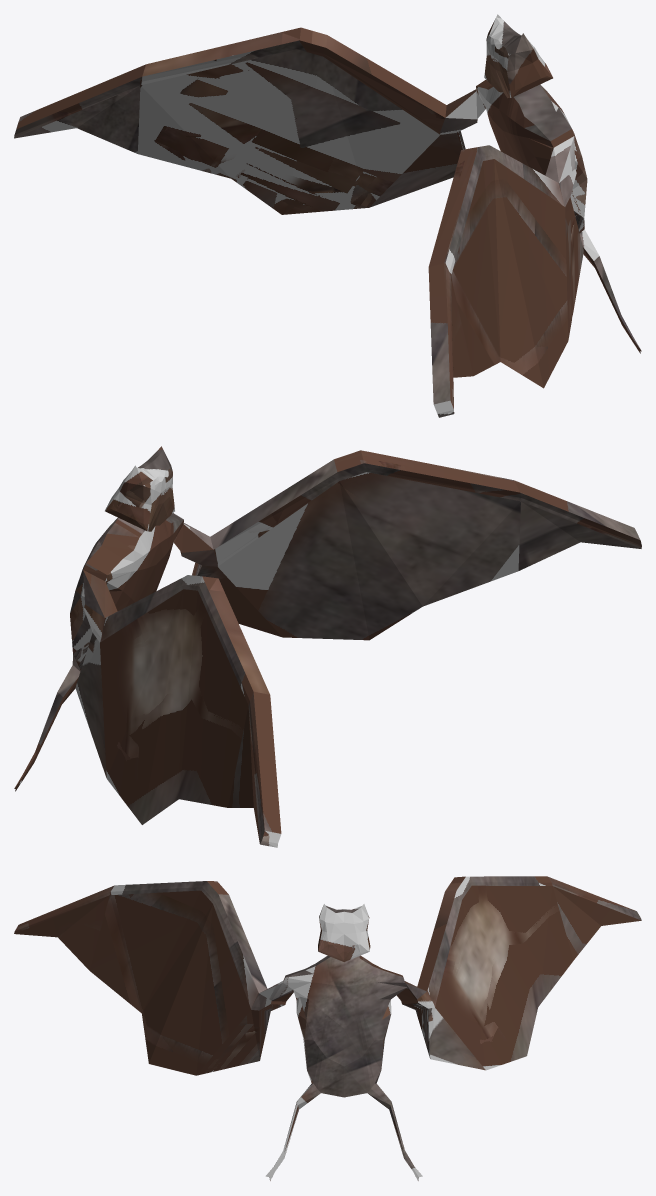
Rendered from Enemigo19.obj.
3 renders of one model, top to bottom at view 1: azimuth 30°, elevation 25°; view 2: azimuth 150°, elevation 25°; view 3: azimuth 270°, elevation 25°, orthographic. The views are drawn at different scales.
Parts seen in each view (by area): view 1: Plano; view 2: Plano; view 3: Plano.
Boxes of the visible parts, x1,y1,x2,y2 form: Plano: (14,14,641,417); Plano: (14,446,641,847); Plano: (14,876,641,1180).
Size of the model in its own units: 0.959 by 0.7328 by 1.69.
1 material, 1 textured.
